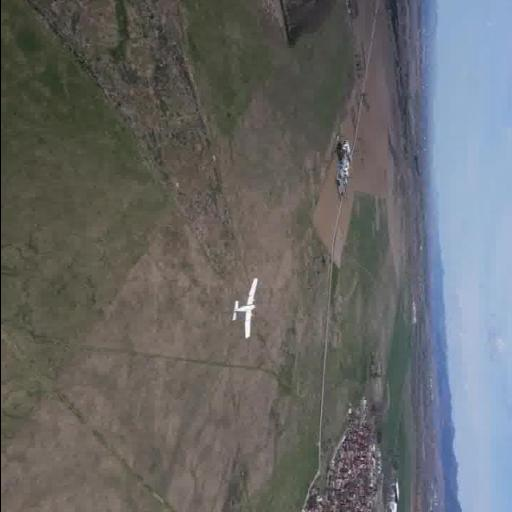uav: (226, 276, 266, 342)
